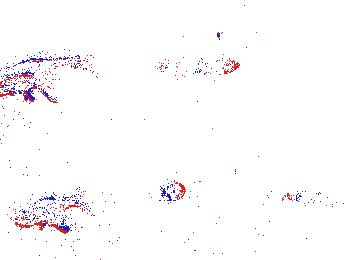red belly glassfish: (279, 188, 319, 206), (158, 180, 187, 202)
redtail glassfish: (1, 45, 101, 98), (11, 191, 90, 228), (152, 50, 240, 77)
